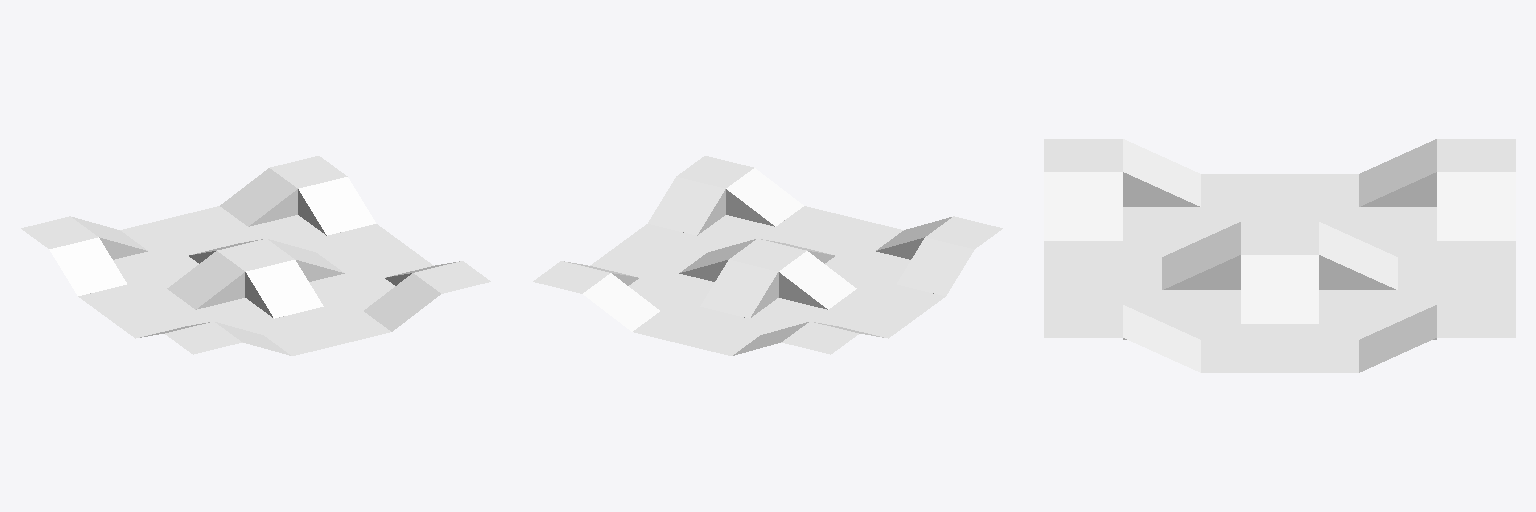
The robot description file, URDF, robot "tag1_1":
<?xml version="1.0" ?>
<robot name="tag1_1">
  <link name="ground">
  <contact>
      <lateral_friction value="2"/>
  </contact>
    <inertial>
      <origin rpy="0 0 0" xyz="0 0 0"/>
       <mass value="1000.0"/>
       <inertia ixx="0" ixy="0" ixz="0" iyy="0" iyz="0" izz="0"/>
    </inertial>
    <visual>
      <origin rpy="0 0 0" xyz="0 0 0"/>
      <geometry>
        <mesh filename="tag1_5.obj" scale="1 1 1"/>
      </geometry>
       <material name="white">
        <color rgba="1 1 1 1"/>
      </material>
    </visual>
        <collision concave="yes">
      <origin rpy="0 0 0" xyz="0 0 0"/>
      <geometry>
        <mesh filename="tag1_5.obj" scale="1 1 1"/>
      </geometry>
    </collision>
  </link>
</robot>

--- Facts derived from the render (not from the file) ---
3 views of the same robot in one strip: view 1: azimuth 30°, elevation 25°; view 2: azimuth 150°, elevation 25°; view 3: azimuth 270°, elevation 25° (orthographic).
Model tag1_1 with 1 links and 0 joints (none), rooted at ground, posed all joints at 0.
Visible links, largest first — view 1: ground; view 2: ground; view 3: ground.
Boxes of the visible links, x1,y1,x2,y2 form: ground: [21, 156, 490, 355]; ground: [533, 156, 1002, 355]; ground: [1044, 139, 1515, 372].
Bounding box of the posed robot: 30 × 30 × 2.5 m (x, y, z).
Meshes: 1 distinct files referenced, 1 mesh visuals loaded (1 OBJ).